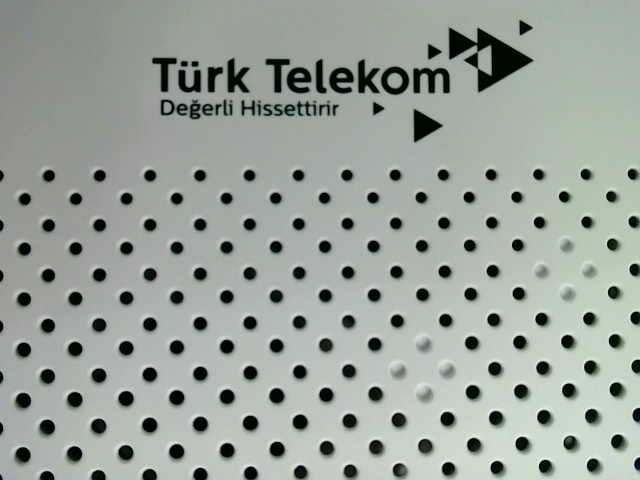AQ_TURKTelekom: (149, 18, 533, 145)
